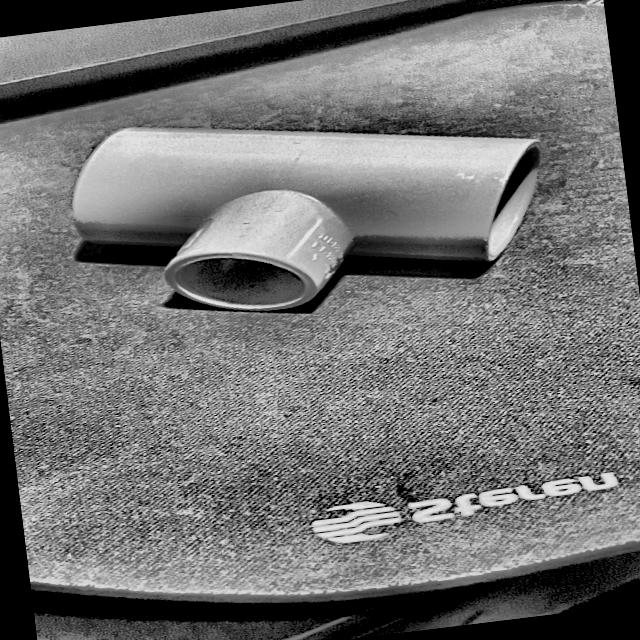EQUALTEE: (71, 127, 542, 315)
